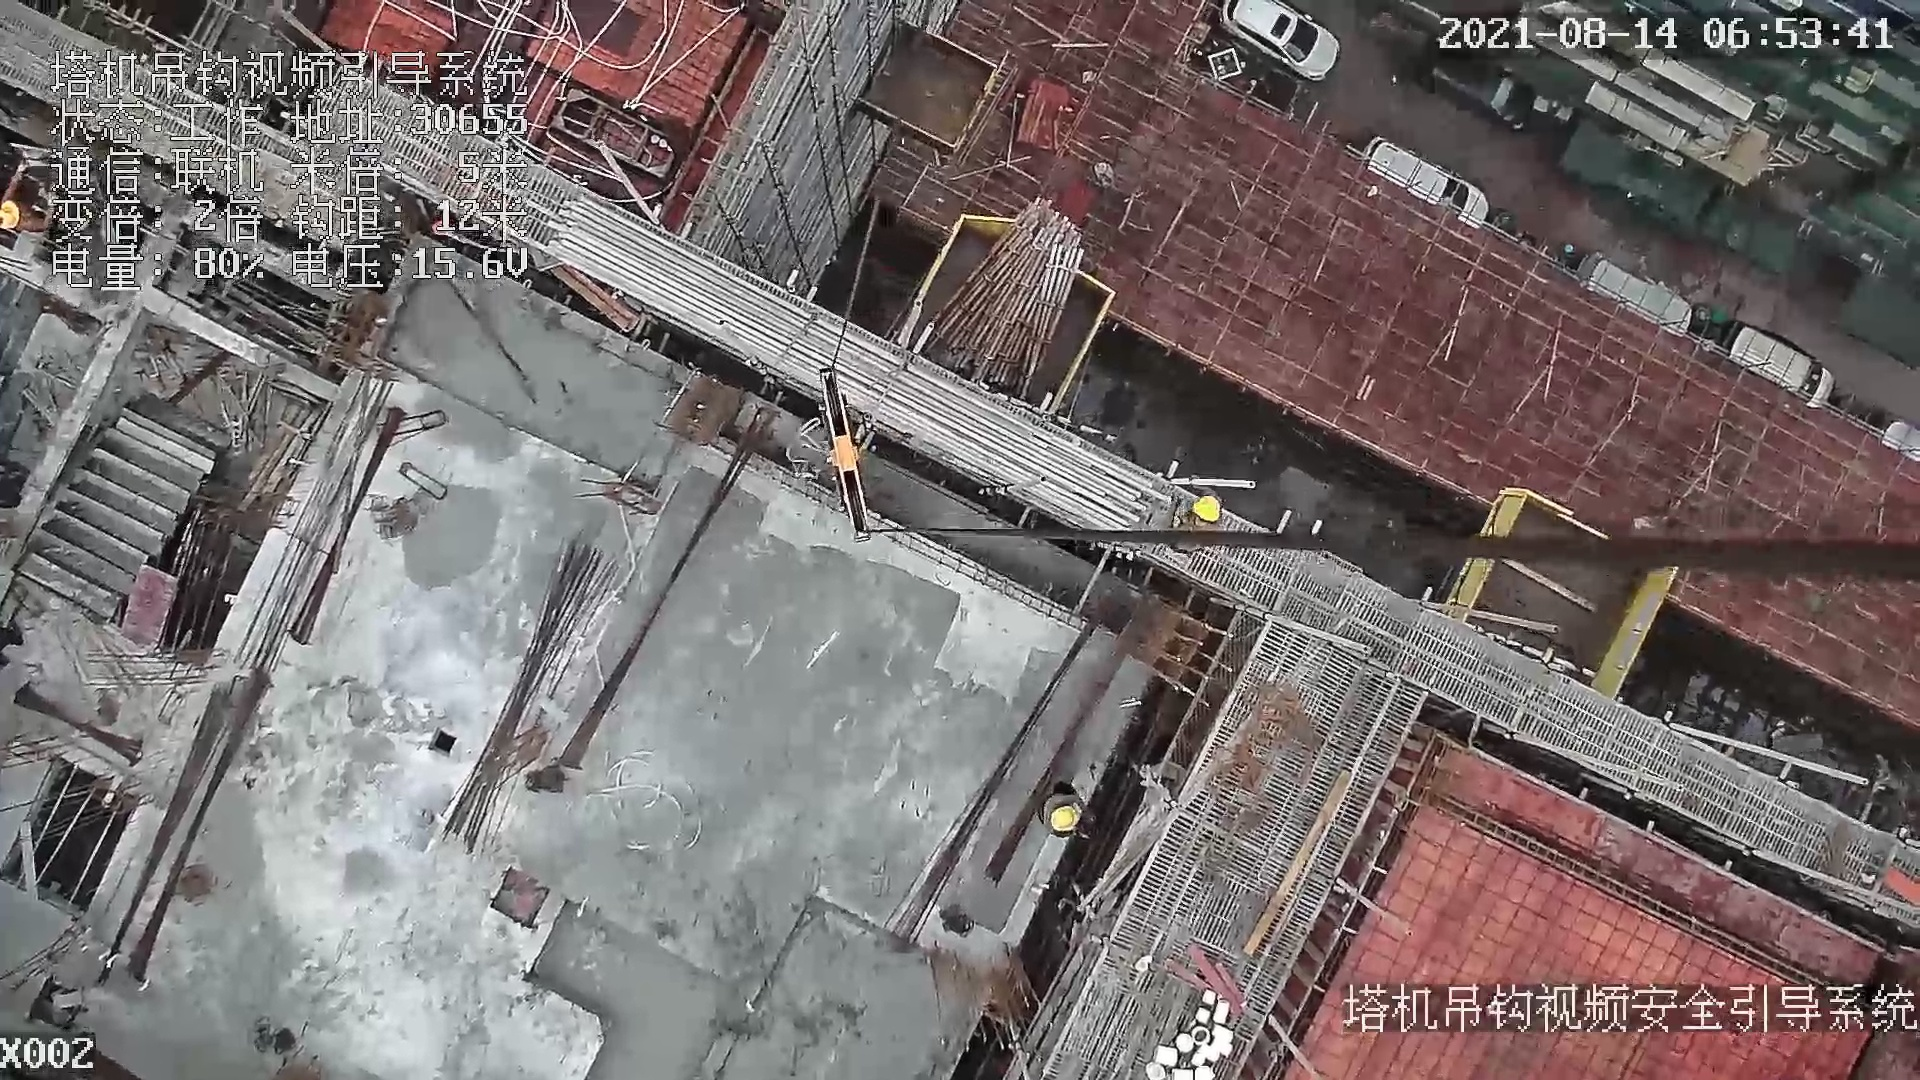helmet: (1051, 805, 1078, 832), (1192, 496, 1220, 521), (1, 198, 21, 227)
hook: (813, 363, 877, 535)
person: (1028, 780, 1103, 841), (1173, 480, 1227, 563)
rebar: (544, 198, 1153, 541), (439, 542, 621, 852)
scaffold: (922, 197, 1084, 403)
